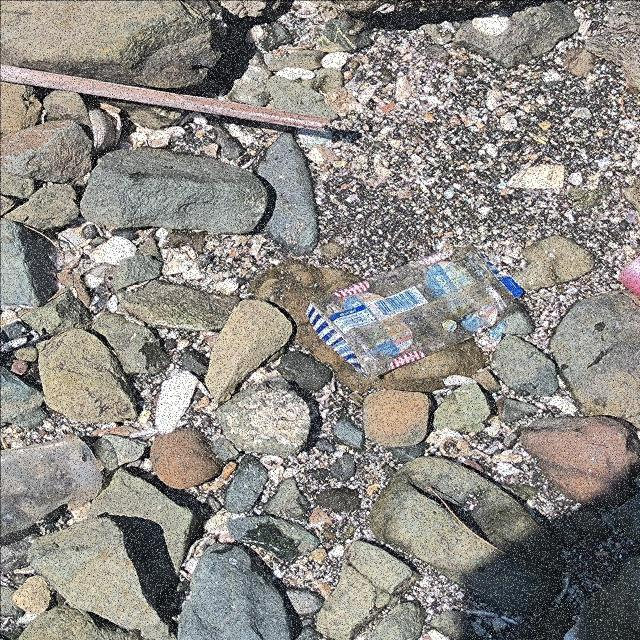plastic_waste: (301, 246, 524, 381), (1, 65, 333, 133)
